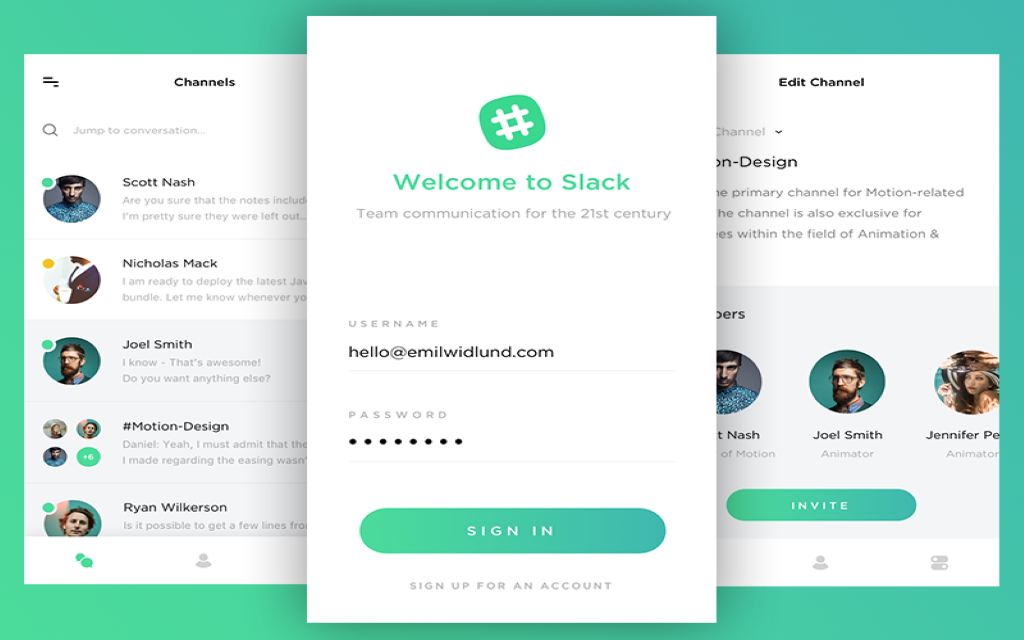button: (361, 508, 664, 552), (726, 489, 918, 521)
button_SignIn: (362, 508, 666, 551)
label_SignIn: (462, 521, 557, 542)
label_Username: (341, 315, 441, 333)
label_password: (343, 406, 452, 423)
textbox: (339, 337, 671, 372), (339, 425, 678, 459)
